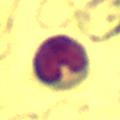monocyte: (28, 31, 96, 93)
